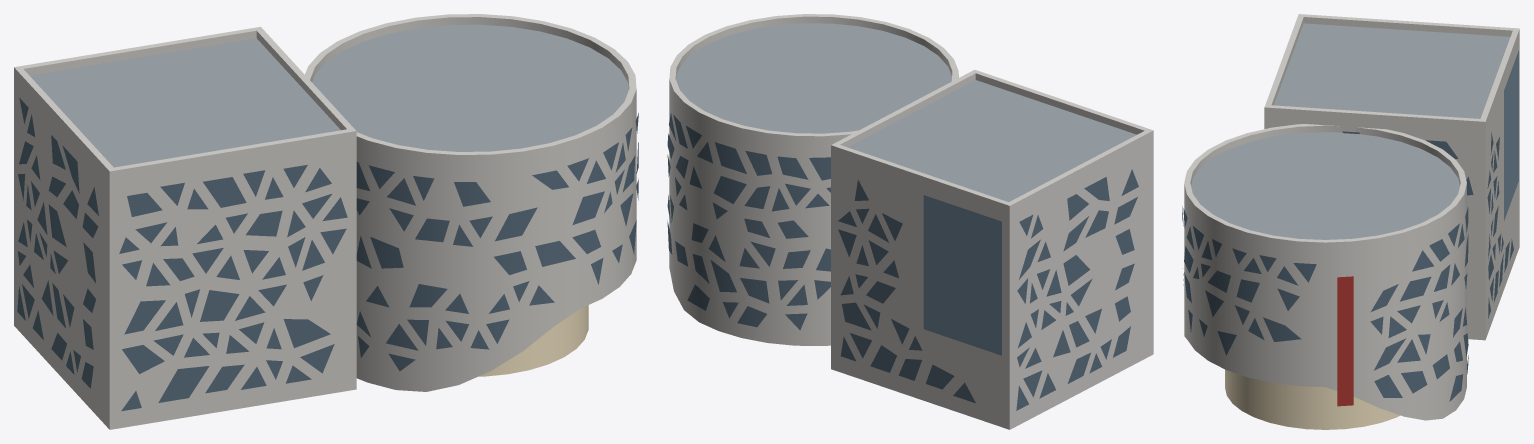
The model's file is mia-faena-forum.glb.
The picture shows the model from 3 angles, left to right: view 1: azimuth 30°, elevation 25°; view 2: azimuth 150°, elevation 25°; view 3: azimuth 270°, elevation 25°; orthographic projection. The views are drawn at different scales.
Parts seen in each view (by area): view 1: Faena Forum; view 2: Faena Forum; view 3: Faena Forum.
Boxes of the visible parts, x1,y1,x2,y2 form: Faena Forum: (14, 14, 638, 429); Faena Forum: (667, 14, 1153, 429); Faena Forum: (1182, 14, 1519, 429).
Size of the model in its own units: 50.12 by 23.7 by 33.2.
